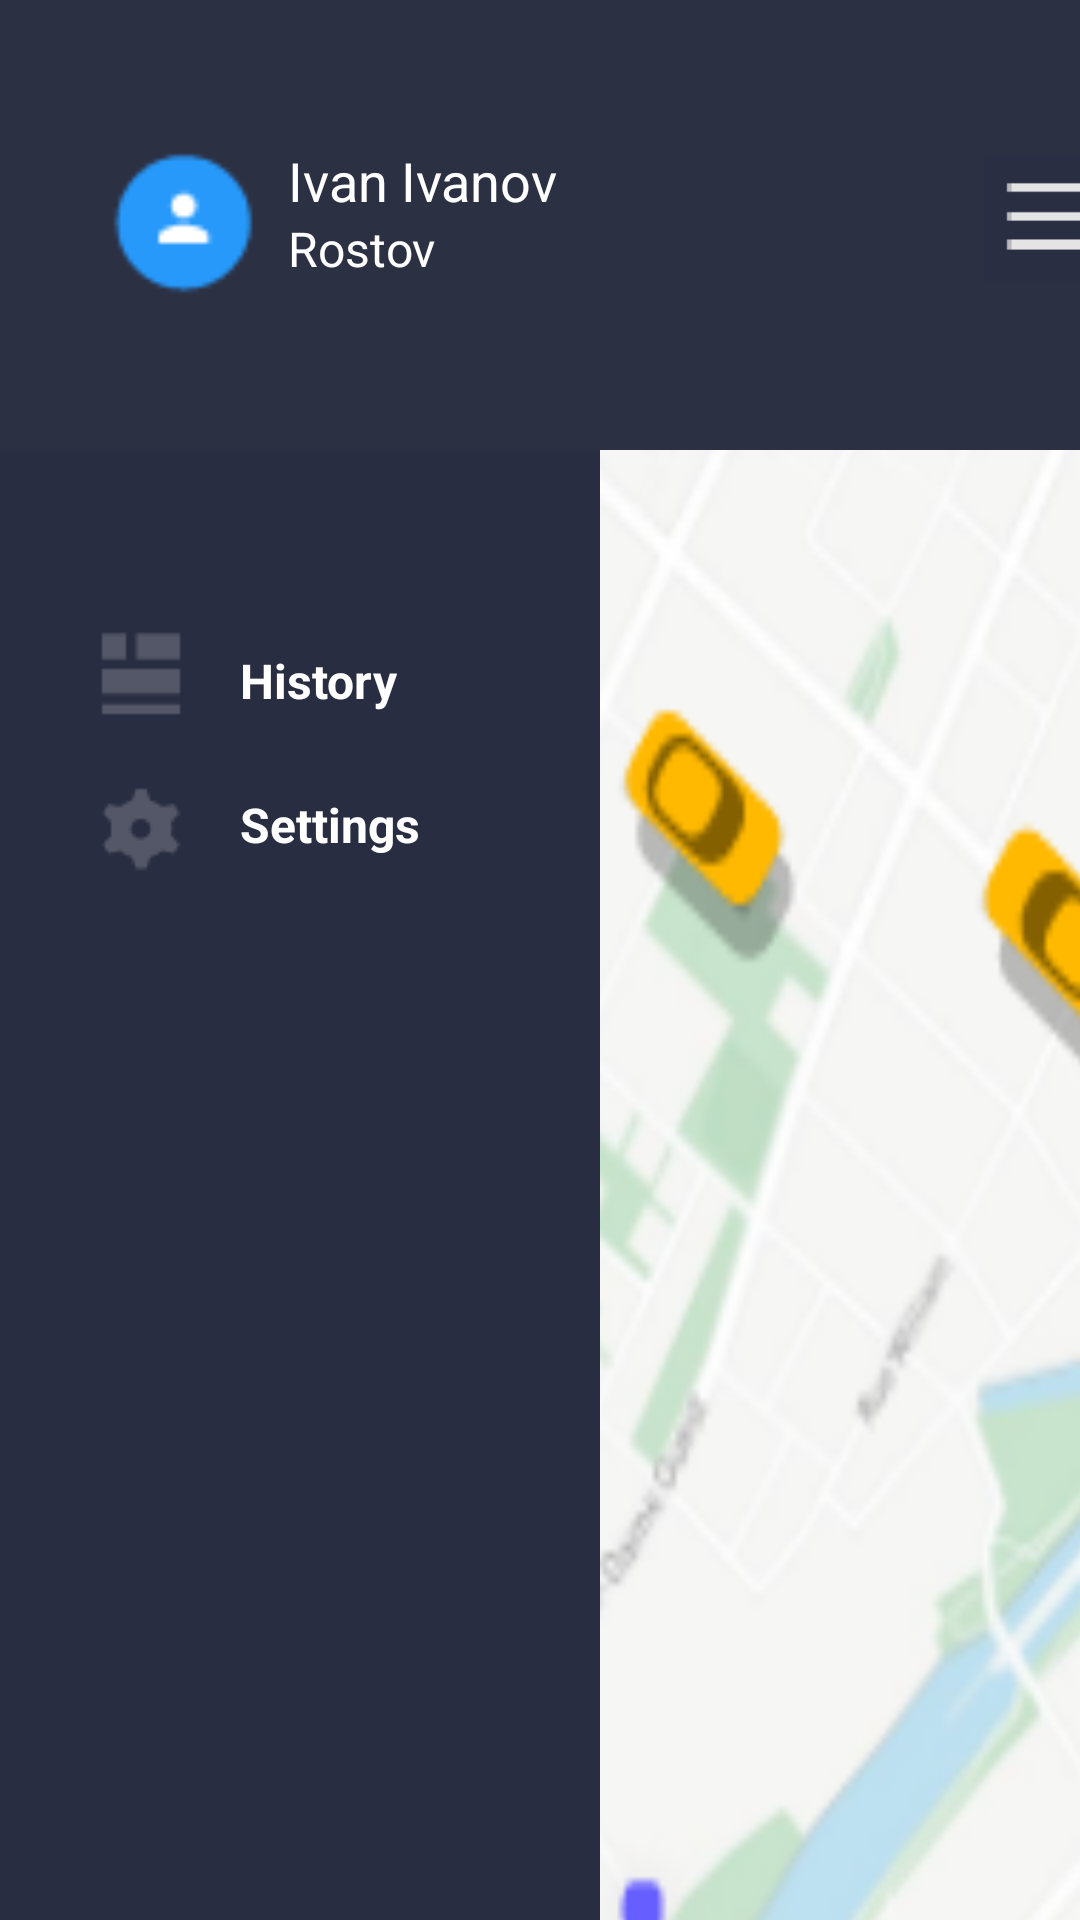

Point at icon controls on the screen. Image size 1080w x 1920h, points as (x=x, y=y).
prof: (x=183, y=223)
